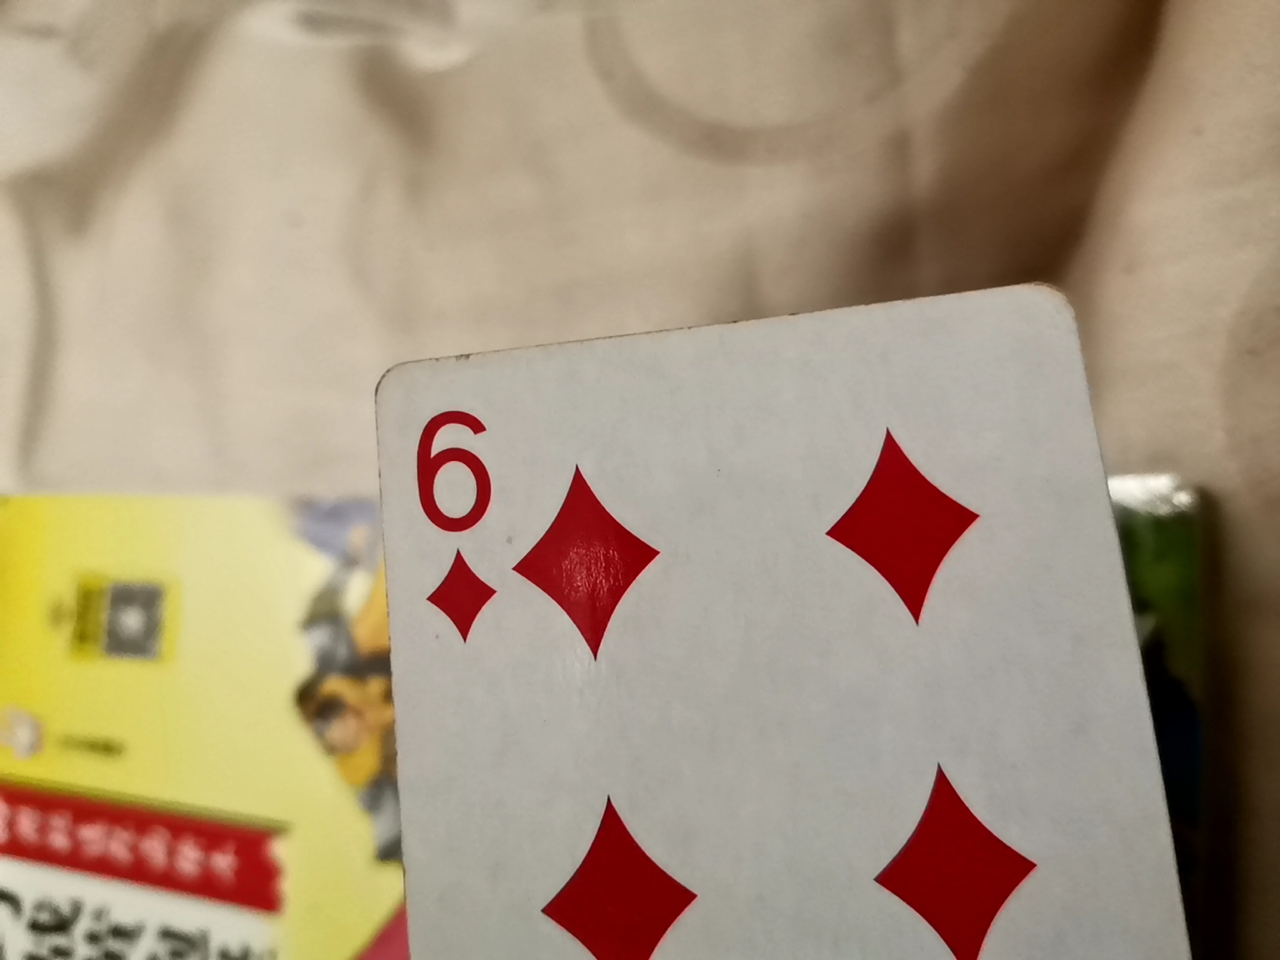fk 6: (348, 253, 1196, 960)
